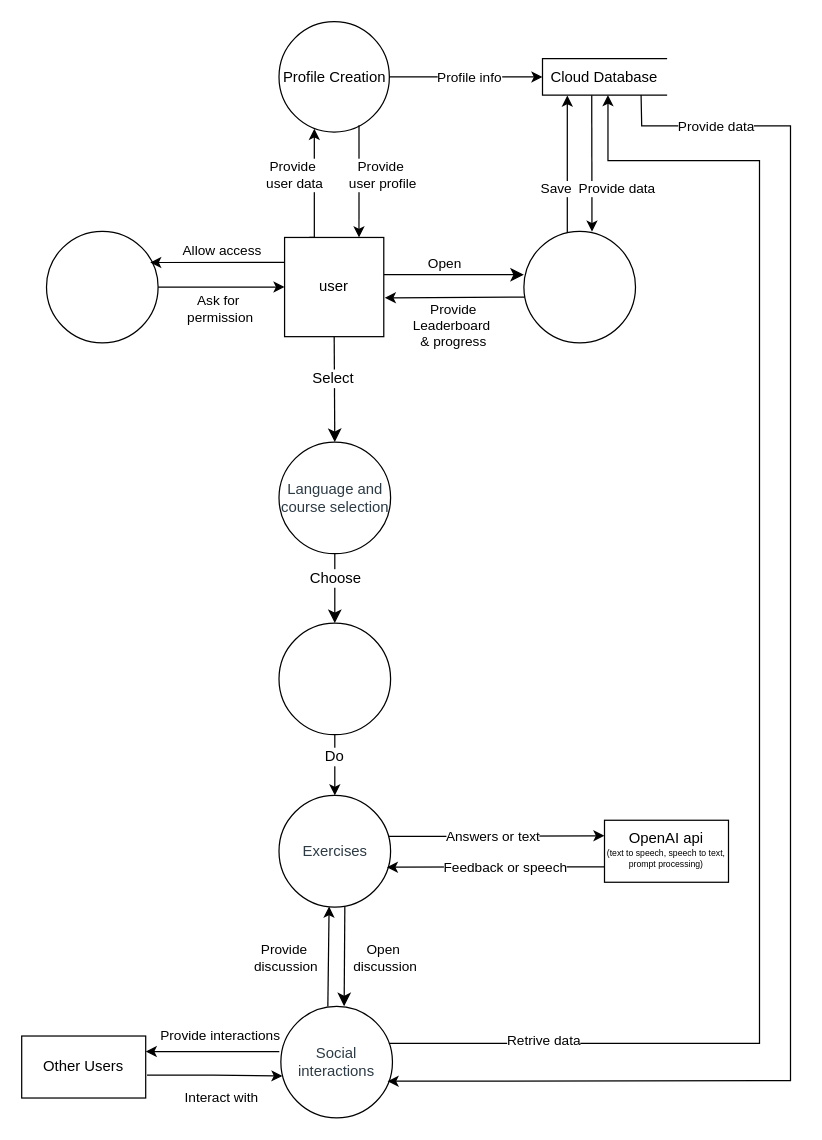
This 822x1140 diagram has some shape labels left out. The shapes that lost their labels are listed below. From the top down, each one's centre as x and y in pixels, then its label:
At point (101, 286): "Notifications".
At point (579, 286): "Leaderboard & progress tracking".
At point (334, 678): "Lesson selection".
